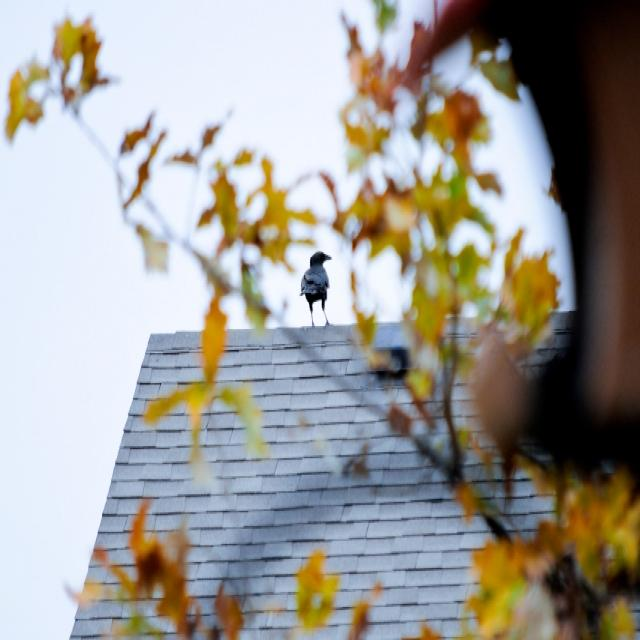bird: (299, 250, 333, 327)
